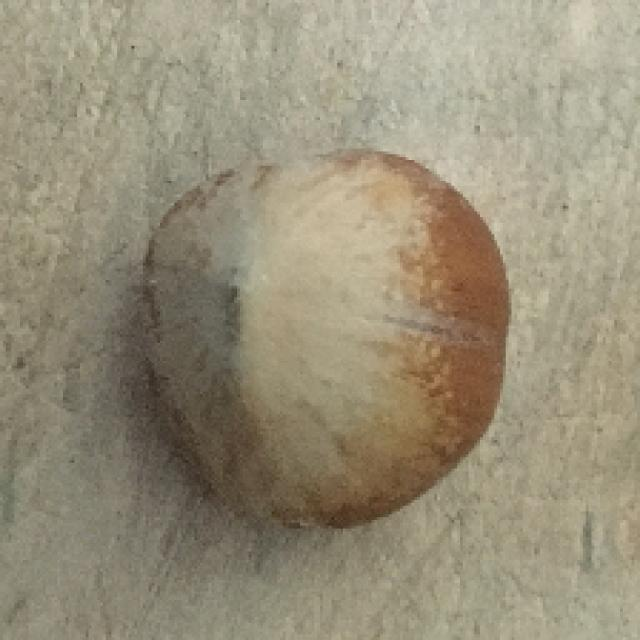qualityHazelnut: (130, 141, 508, 533)
